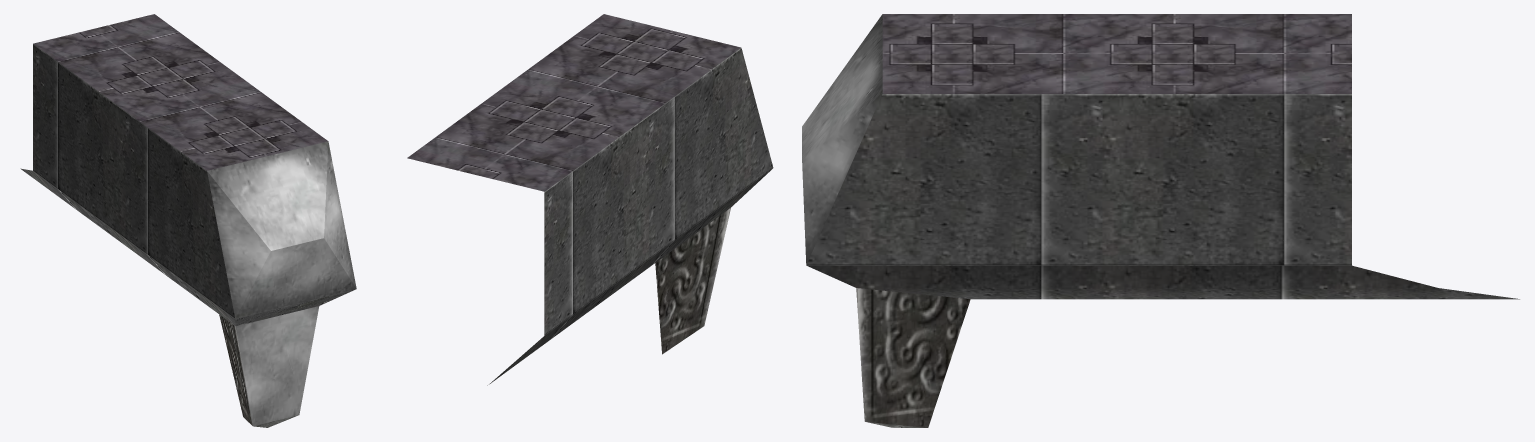
3 views of the same model, side by side, from view 1: azimuth 30°, elevation 25°; view 2: azimuth 150°, elevation 25°; view 3: azimuth 270°, elevation 25° (orthographic). The views are drawn at different scales.
Visible parts, largest first — view 1: model_Object34; view 2: model_Object34; view 3: model_Object34.
Part boxes in pixels (box(x1,y1,x2,y2)): model_Object34: box(20, 14, 356, 427); model_Object34: box(407, 14, 773, 385); model_Object34: box(802, 14, 1519, 427).
Bounding box in the file's own units: 1 × 2.17 × 3.8.
5 materials, 5 textured.
